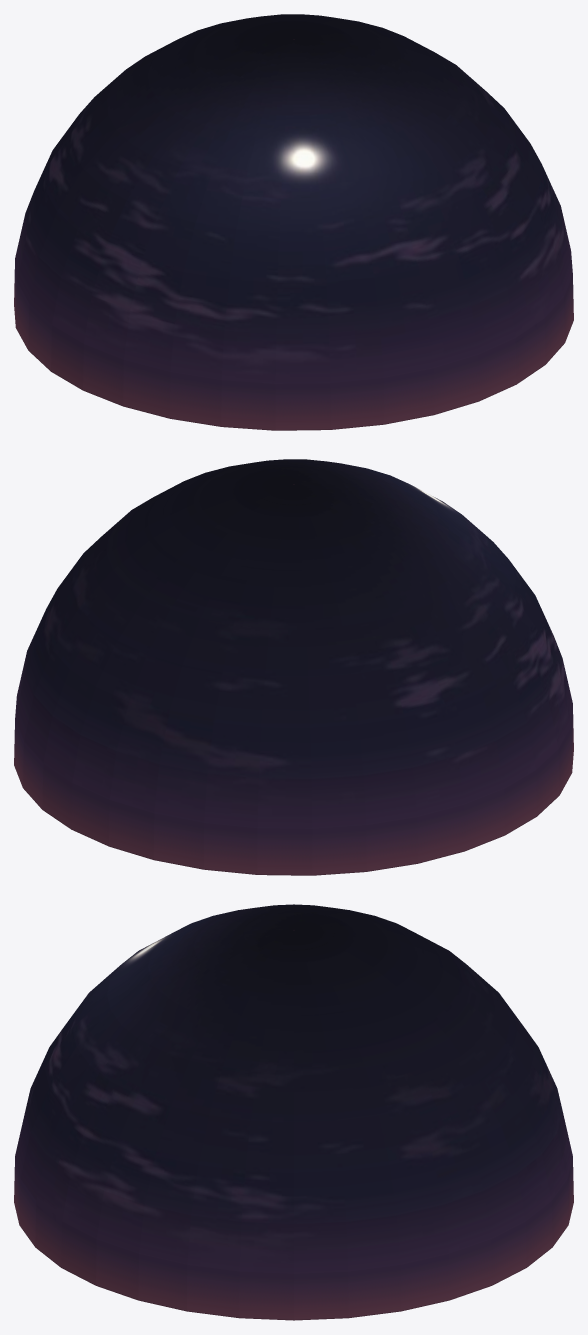
Rendered from lugar-timessquare-ciudad.glb.
The picture shows the model from 3 angles, top to bottom: view 1: azimuth 30°, elevation 25°; view 2: azimuth 150°, elevation 25°; view 3: azimuth 270°, elevation 25°; orthographic projection.
Visible parts, largest first — view 1: planoC; view 2: planoC; view 3: planoC.
Boxes of the visible parts, x1,y1,x2,y2 form: planoC: [14, 14, 573, 430]; planoC: [14, 459, 573, 875]; planoC: [14, 904, 573, 1320].
Bounding box in the file's own units: 6584 × 3530 × 6584.
10 materials, 8 textured.
